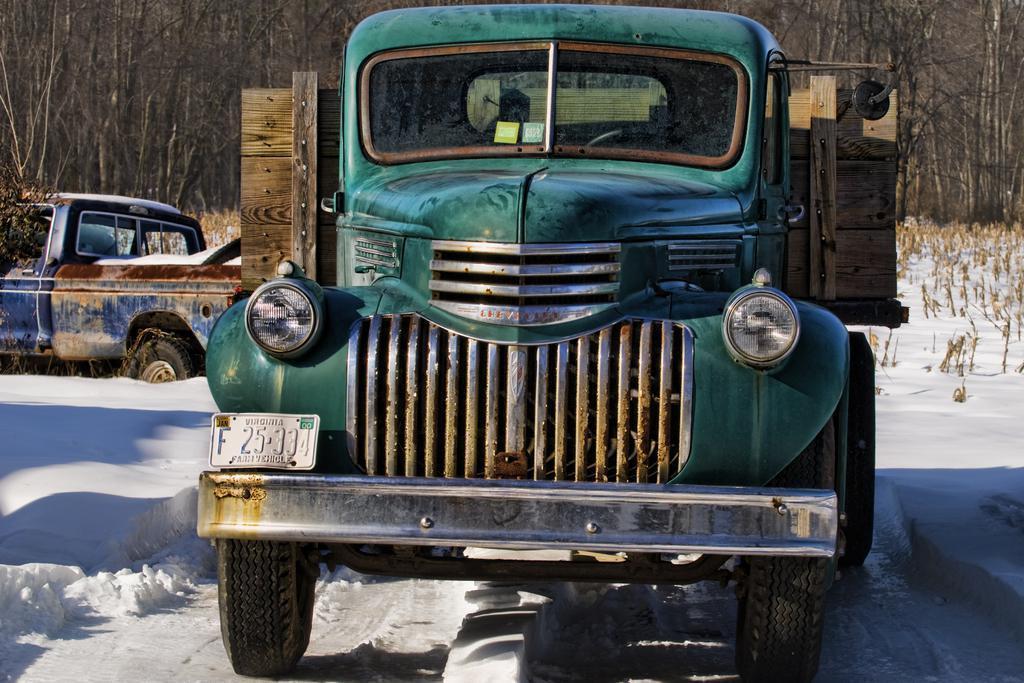Car: (0, 153, 185, 397)
Number plate: (199, 400, 331, 478)
